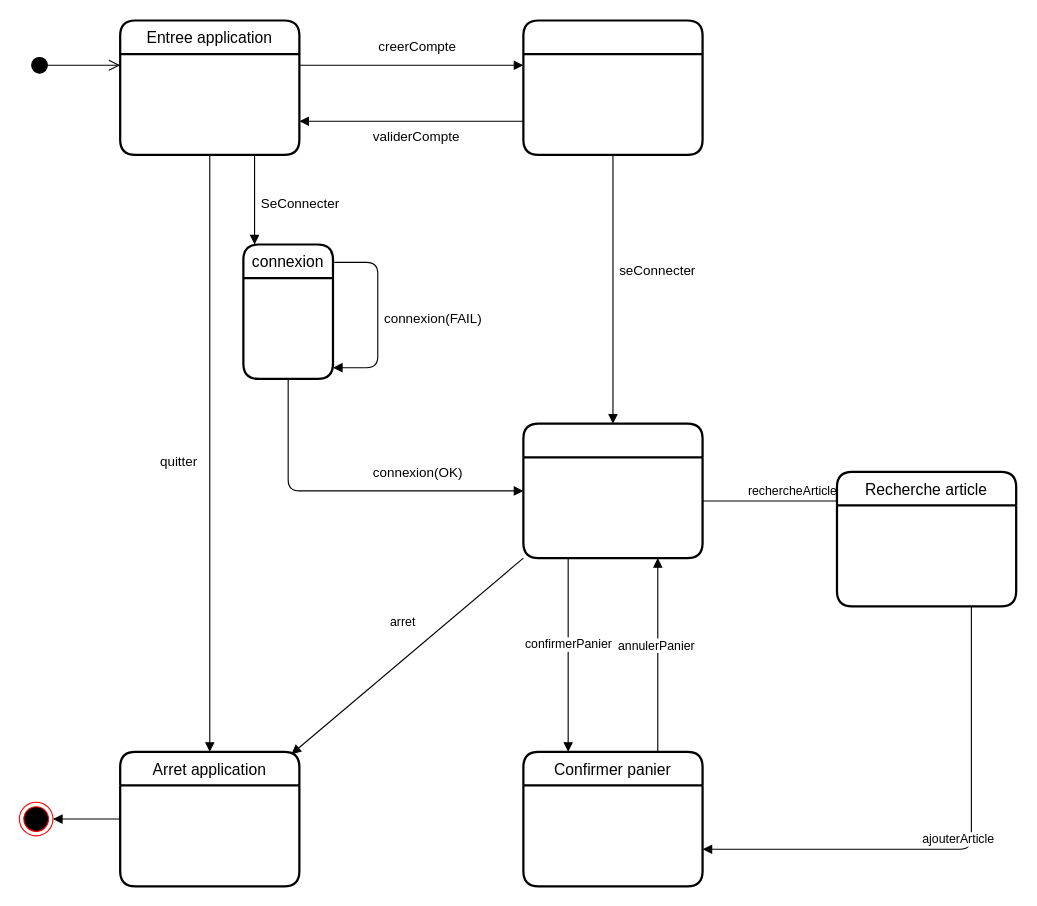
The diagram is 1037 pixels wide and 906 high, and some of its shapes have lost their labels. The shapes that lost their labels are listed below. From the top down, each one's centre as x and y in pixels, then its label:
At [612,87]: "Creer un compte".
At [612,490]: "Recherche Articles".
